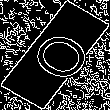O_SE: (16, 23, 94, 87)
